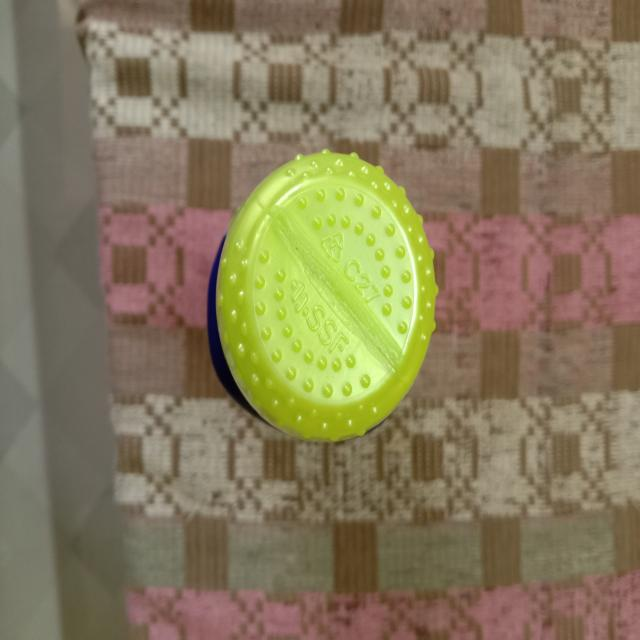detergent: (192, 140, 442, 458)
